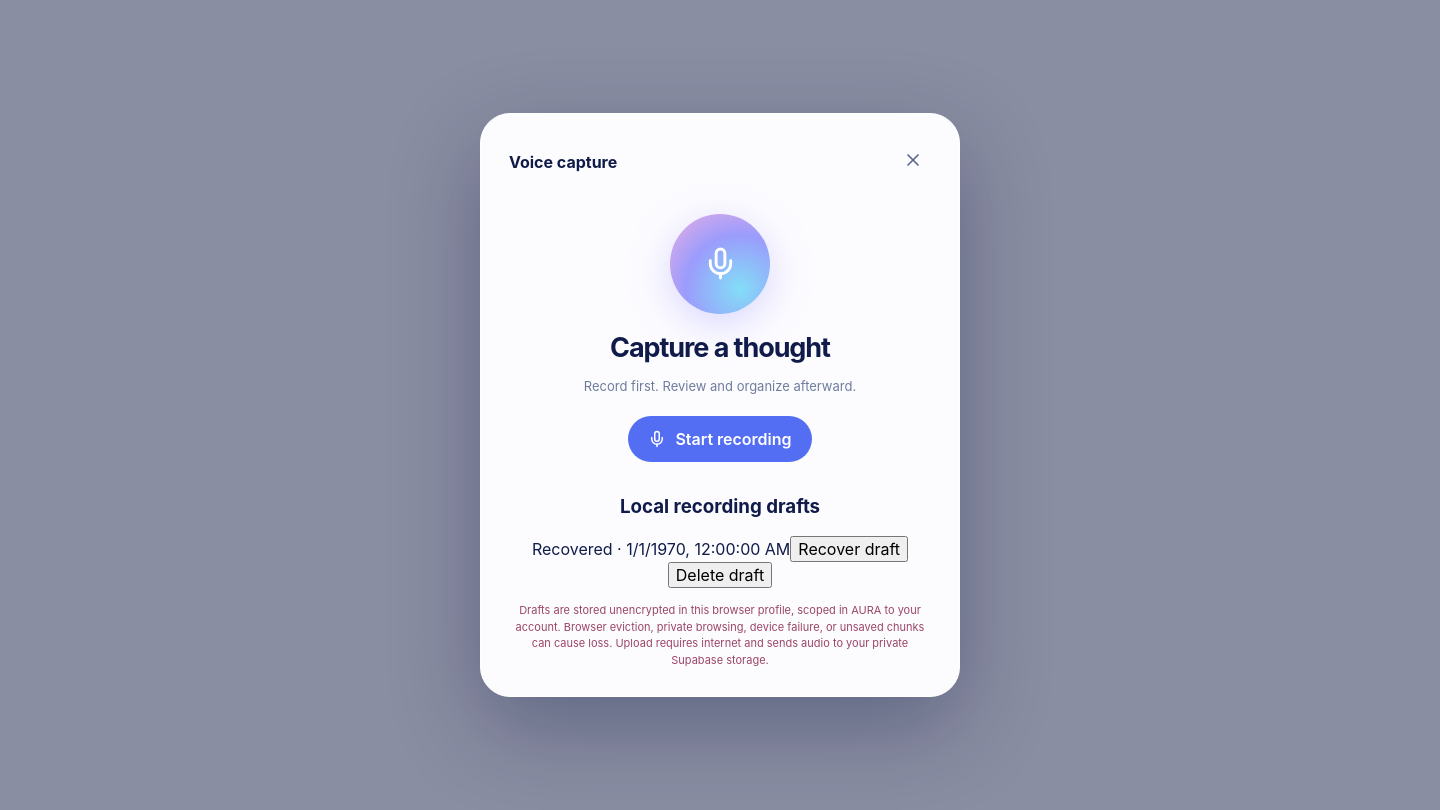
it: never starts the microphone if local draft creation fails
Click the button "Start recording" at (720, 439), box [628,416,812,462]
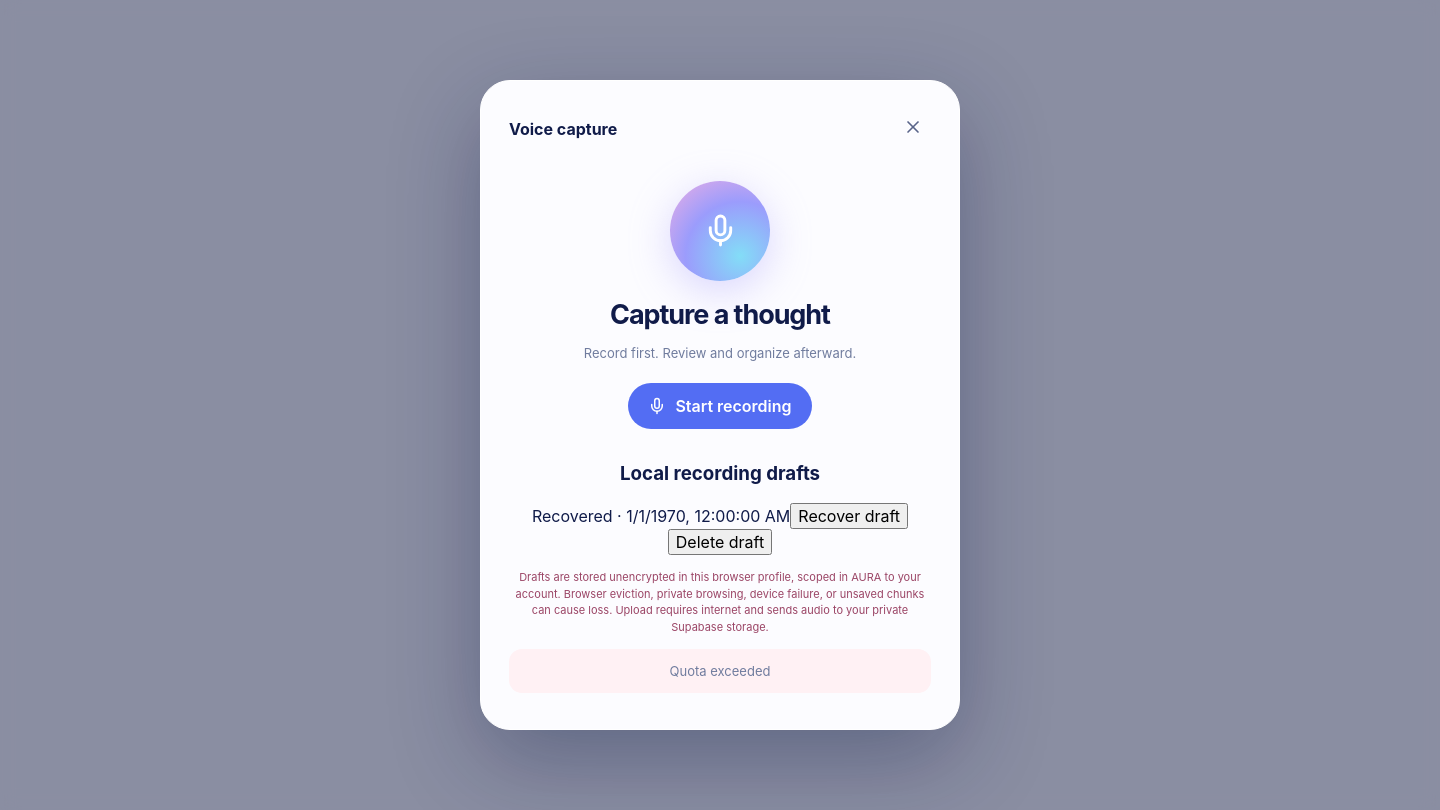
Expected: the message reads "Quota exceeded", [670,663,770,679]
